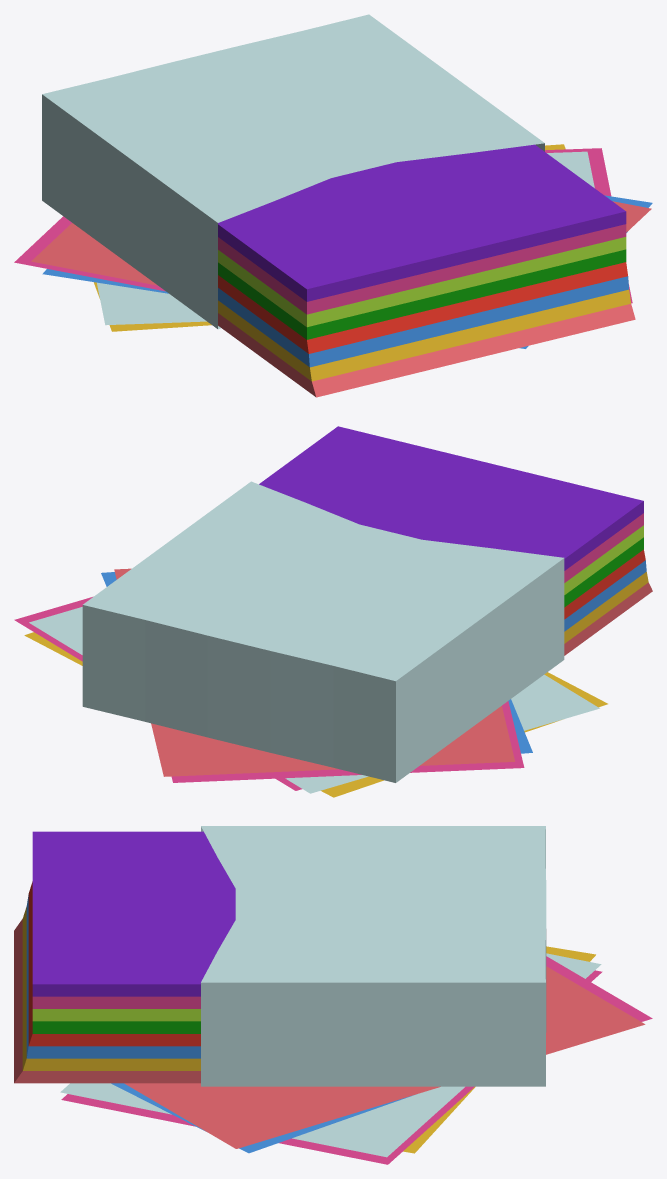
The model's file is colored paper.fbx.
The picture shows the model from 3 angles, top to bottom: view 1: azimuth 30°, elevation 25°; view 2: azimuth 150°, elevation 25°; view 3: azimuth 270°, elevation 25°; orthographic projection. The views are drawn at different scales.
Visible parts, largest first — view 1: Cube.005; view 2: Cube.005; view 3: Cube.005.
Part boxes in pixels (x1,y1,x2,y2): Cube.005: (14, 14, 652, 397); Cube.005: (14, 426, 652, 797); Cube.005: (14, 826, 652, 1164).
Size of the model in its own units: 295 by 56.42 by 297.
